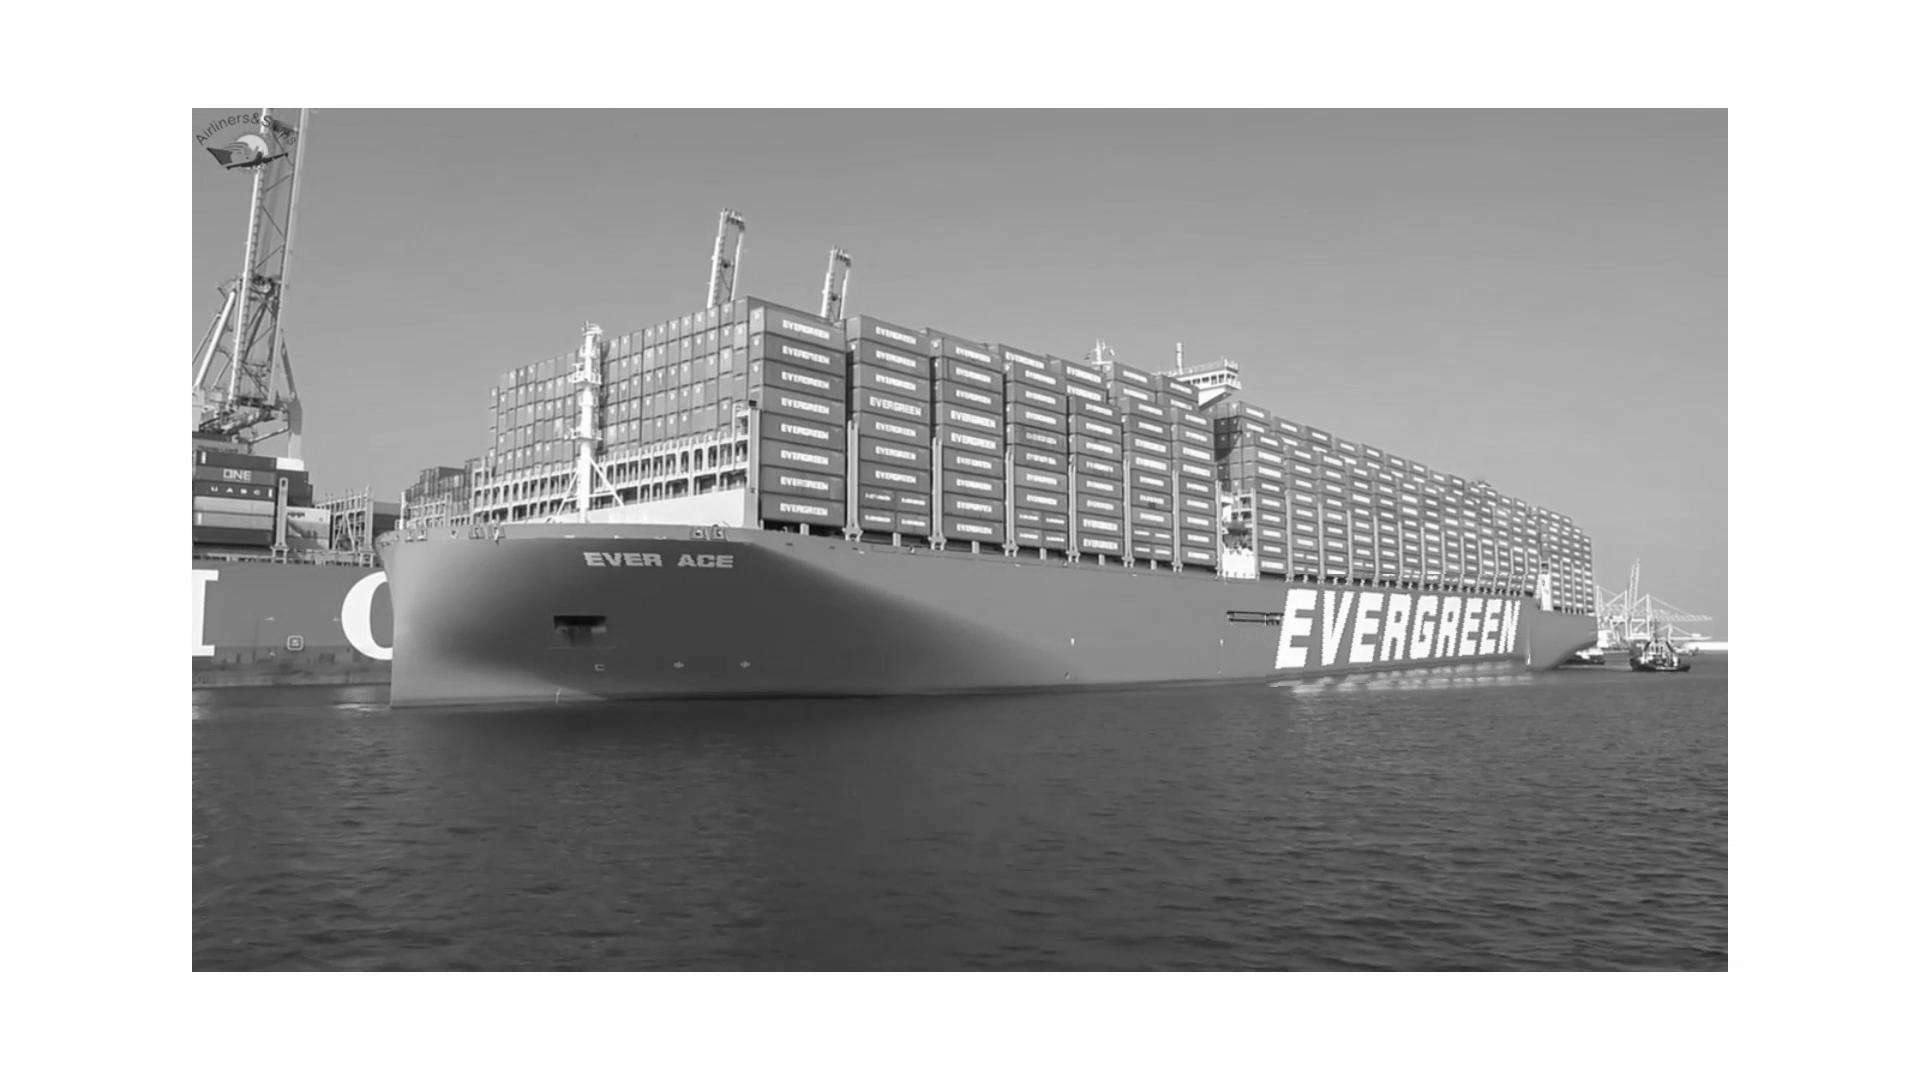OCR: (1266, 574, 1548, 688), (541, 533, 749, 584)
